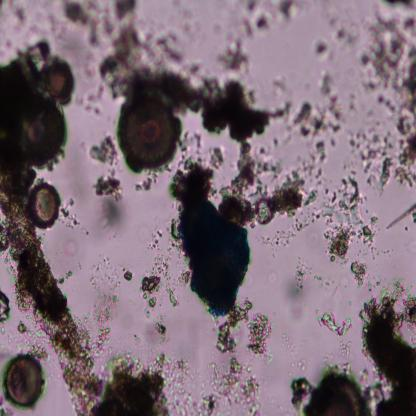Background material: (100, 26, 288, 137), (12, 250, 104, 414), (0, 37, 40, 249), (356, 281, 416, 416), (359, 11, 416, 134), (98, 348, 186, 416), (292, 69, 347, 162), (330, 162, 382, 254), (218, 138, 283, 210), (185, 357, 263, 416), (350, 127, 416, 192), (0, 0, 64, 58), (250, 173, 305, 226), (62, 0, 116, 45), (92, 173, 128, 232), (182, 128, 224, 176), (218, 298, 252, 356), (9, 310, 50, 356), (243, 0, 296, 34), (244, 304, 274, 361), (138, 255, 164, 318), (216, 32, 251, 76), (91, 289, 116, 348), (326, 11, 360, 51), (313, 306, 354, 338), (89, 252, 121, 292), (292, 202, 330, 233), (82, 136, 118, 167), (77, 84, 107, 121), (282, 331, 306, 375), (385, 200, 416, 234), (286, 376, 313, 412), (290, 260, 315, 298), (257, 226, 295, 250), (60, 192, 80, 230), (164, 220, 180, 264), (146, 320, 171, 347), (285, 294, 308, 323), (164, 266, 179, 310), (295, 161, 323, 183), (108, 0, 136, 21), (314, 272, 336, 293), (352, 260, 368, 288), (0, 294, 12, 328), (62, 238, 79, 260), (150, 227, 164, 253), (312, 37, 328, 59), (367, 245, 390, 259), (136, 177, 155, 193), (334, 338, 350, 357), (379, 0, 416, 8), (0, 321, 12, 345), (302, 186, 318, 204), (367, 273, 383, 291), (401, 15, 416, 34), (58, 270, 76, 284), (347, 90, 358, 112), (305, 230, 319, 247), (120, 267, 135, 280), (178, 267, 190, 282), (328, 255, 350, 263), (266, 270, 278, 284), (129, 332, 145, 342), (408, 238, 416, 252), (324, 227, 330, 243), (325, 186, 329, 196), (347, 300, 353, 306), (358, 250, 362, 256), (272, 254, 275, 258)
Diatom: (114, 88, 180, 173), (15, 98, 70, 168), (306, 370, 368, 414), (3, 357, 46, 408), (28, 180, 64, 229), (41, 60, 73, 104)
Fragment: (180, 194, 252, 314)
